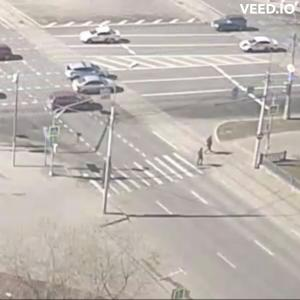car: (240, 37, 288, 55), (76, 80, 121, 98), (66, 62, 101, 83), (82, 30, 127, 46), (214, 18, 251, 35), (1, 46, 19, 63)
